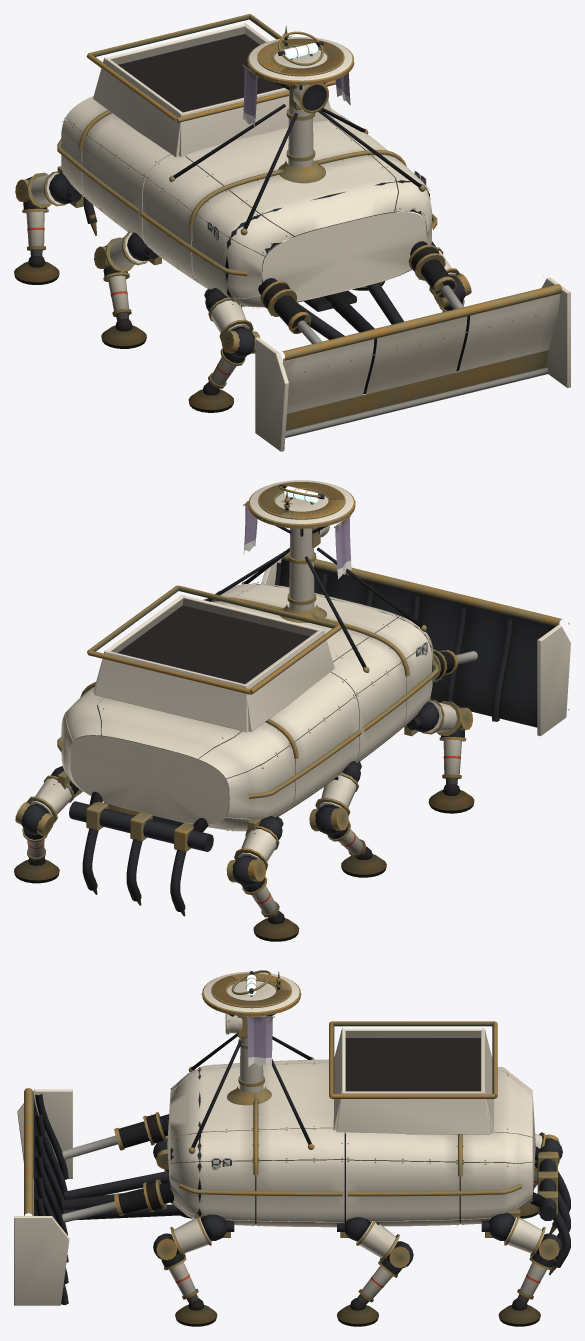
File: screed.glb
3 views of the same model, one above another, from view 1: azimuth 30°, elevation 25°; view 2: azimuth 150°, elevation 25°; view 3: azimuth 270°, elevation 25° (orthographic). The views are drawn at different scales.
Visible parts, largest first — view 1: screed-hull; view 2: screed-hull; view 3: screed-hull.
Part boxes in pixels (<box>): screed-hull: <box>14,14,570,451</box>; screed-hull: <box>14,480,570,941</box>; screed-hull: <box>14,970,570,1326</box>.
Size of what is drawn, in the model's own units: 3.57 by 3.8 by 6.54.
2 materials, 1 textured.
